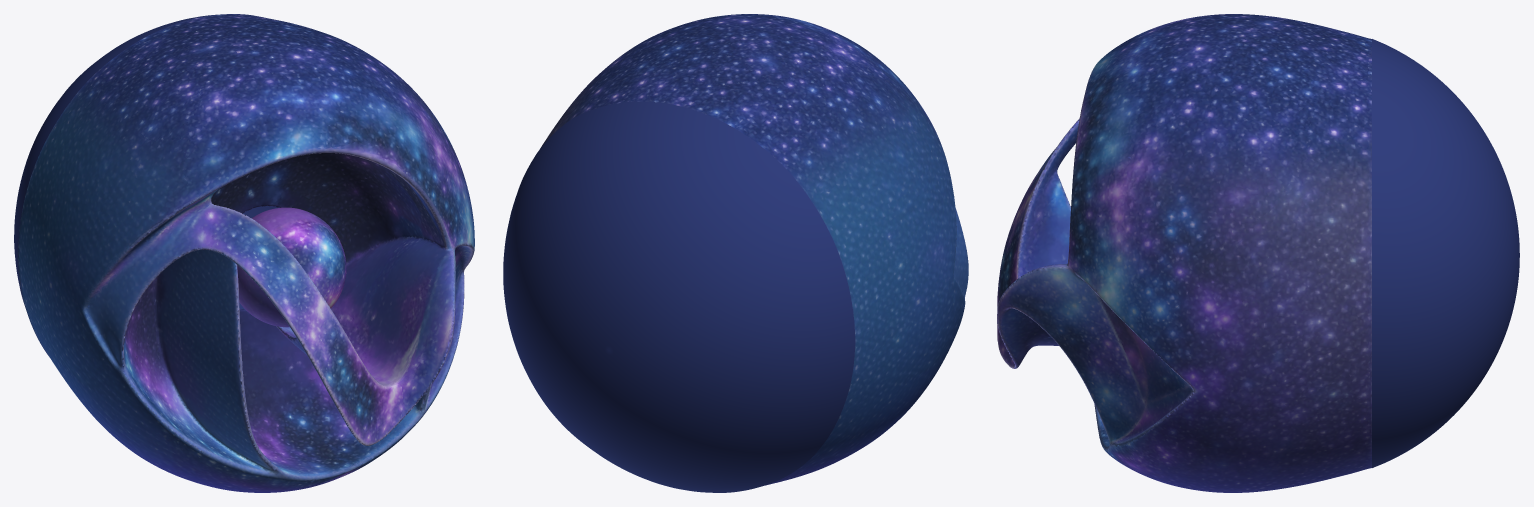
The model's file is AI_cosmic_sphere_faithfu_1023232633_texture.glb.
The picture shows the model from 3 angles, left to right: view 1: azimuth 30°, elevation 25°; view 2: azimuth 150°, elevation 25°; view 3: azimuth 270°, elevation 25°; orthographic projection. The views are drawn at different scales.
Size of the model in its own units: 1.74 by 1.84 by 2.
Materials: 1 (1 with a texture image).
